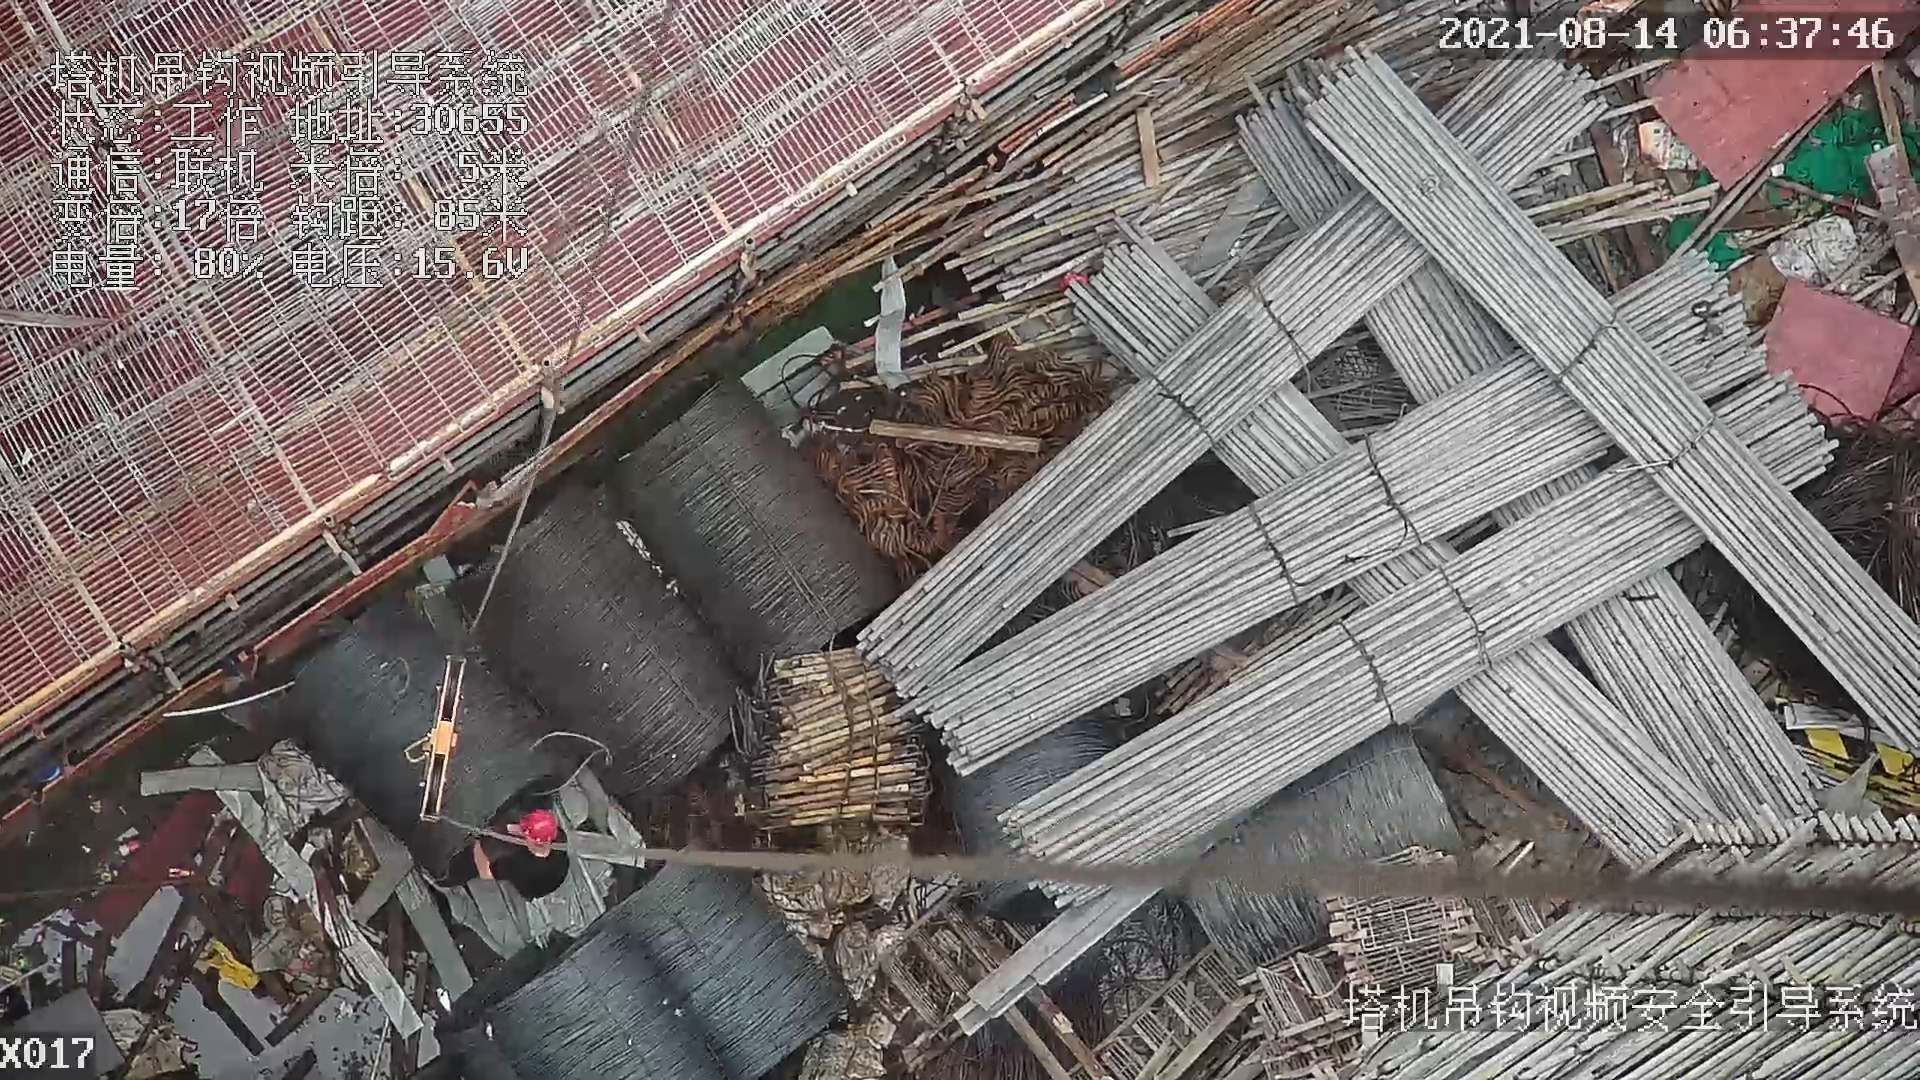helmet: (514, 806, 560, 845)
hook: (401, 655, 468, 823)
person: (472, 808, 570, 901)
scaffold: (932, 63, 1913, 842), (737, 614, 949, 858)
